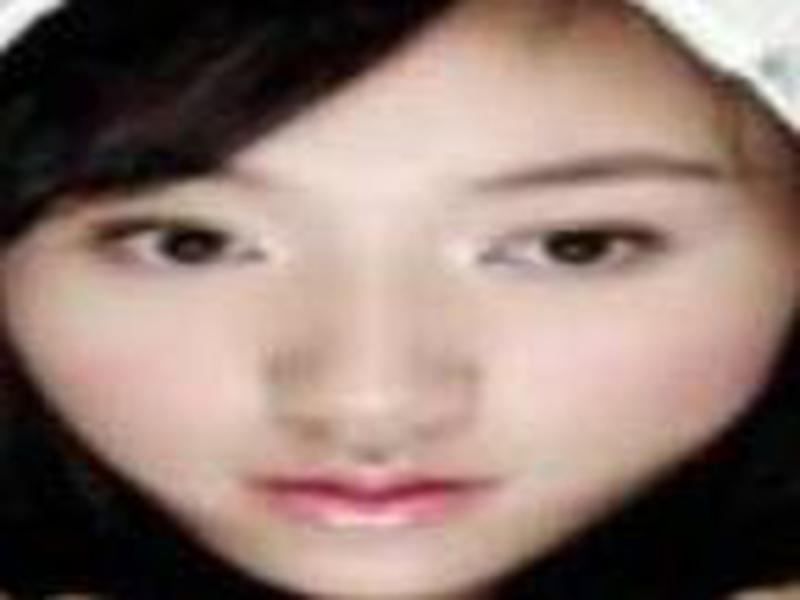without_mask: (1, 72, 751, 600)
